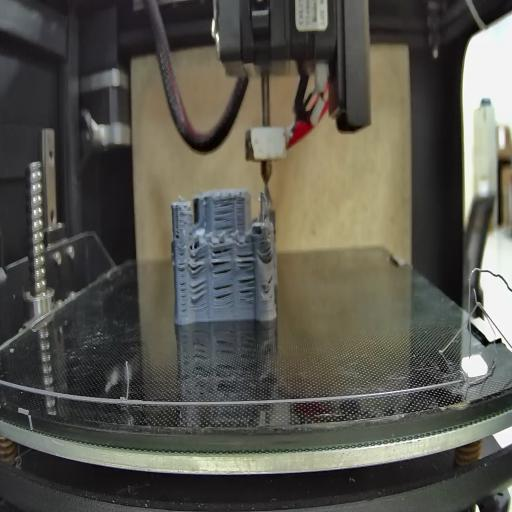cracks: (210, 196, 238, 231), (238, 251, 255, 304), (177, 252, 187, 313), (213, 249, 233, 278), (212, 284, 234, 307), (188, 250, 206, 274), (191, 281, 207, 304), (262, 246, 273, 260), (265, 272, 273, 288), (175, 228, 180, 241)
